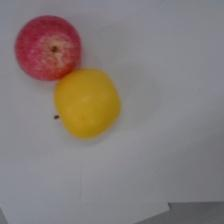red: (14, 14, 82, 82)
yellow: (53, 67, 122, 139)
